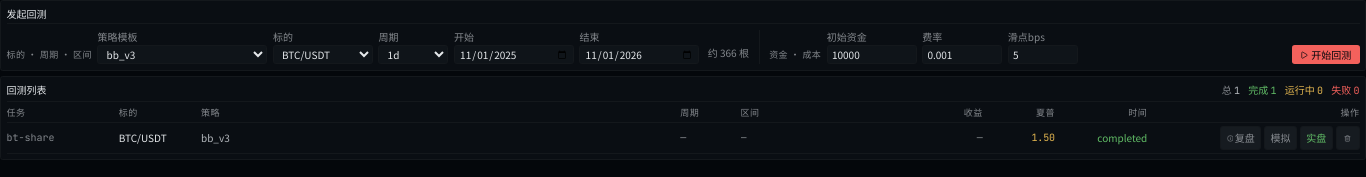
发车区间预估条 › 区间倒置(结束早于开始)→ 不显示预估
Type "2026-12-31" into the date field showing "开始". click: (514, 55)
box: top-left (454, 45), bottom-right (574, 64)
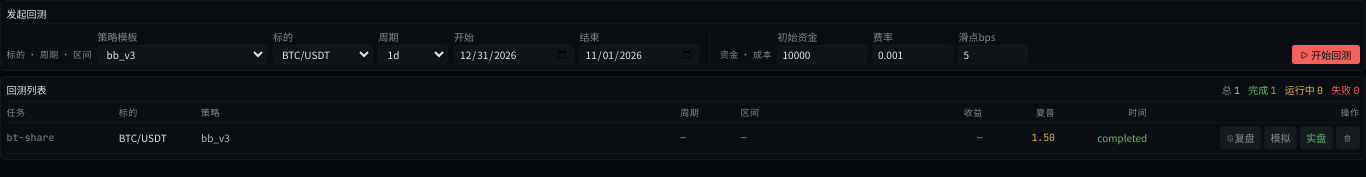
Check: the text "约 366 根" is gone
